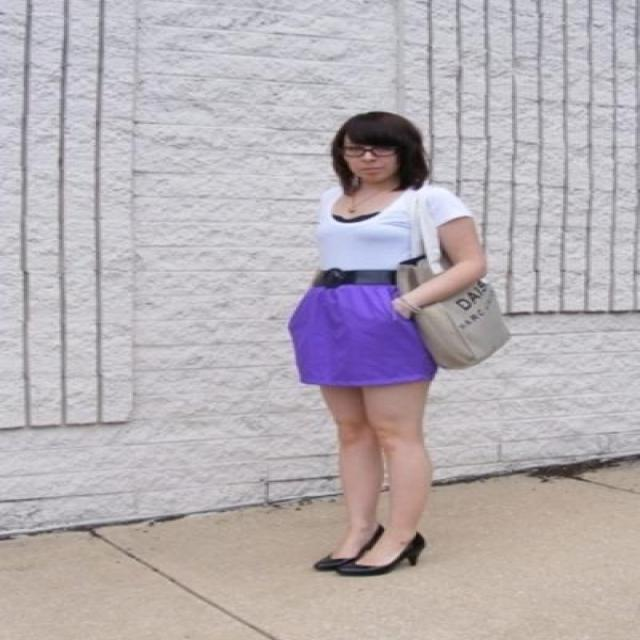bag: (405, 275, 517, 370)
shirt: (302, 183, 470, 269)
shoe: (314, 525, 424, 575)
skirt: (288, 285, 435, 385)
